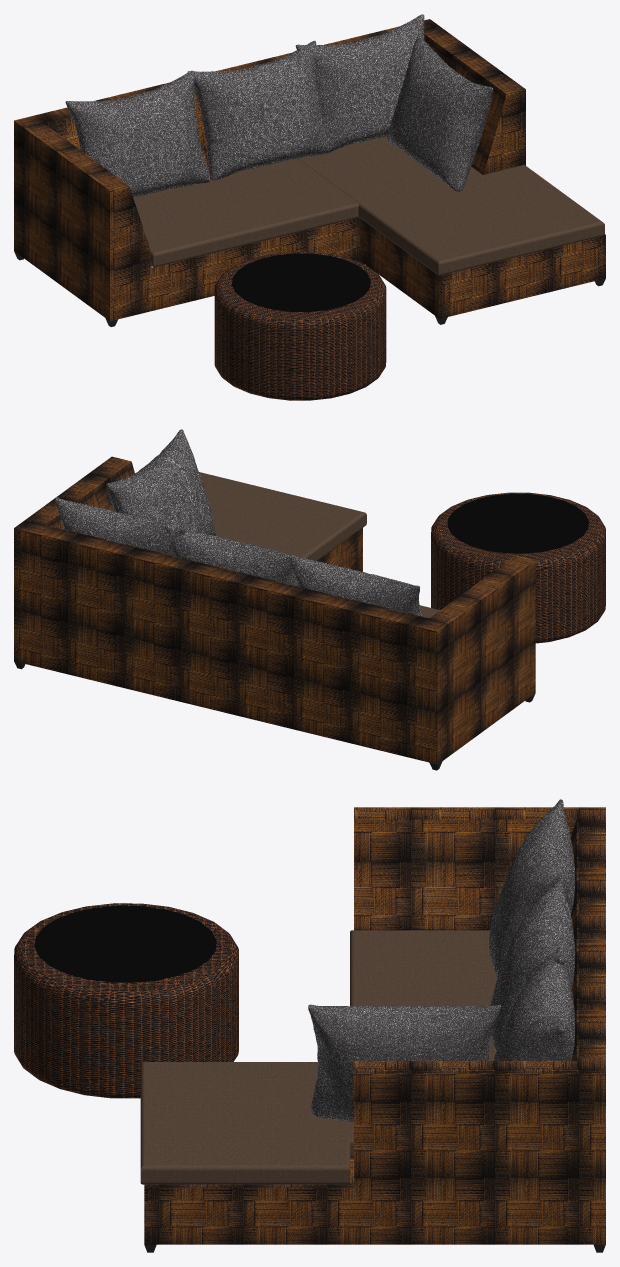
The model's file is furniture 2.dae.
3 renders of one model, top to bottom at view 1: azimuth 30°, elevation 25°; view 2: azimuth 150°, elevation 25°; view 3: azimuth 270°, elevation 25°, orthographic. The views are drawn at different scales.
Parts seen in each view (by area): view 1: group_0, Component_3 (×4), Component_2, Component_5, Component_1, group_2; view 2: group_0, Component_3 (×4), Component_5, Component_2, group_2; view 3: group_0, Component_3 (×4), Component_5, Component_2, group_2, Component_1.
Part boxes in pixels (left/top/right/bottom): group_0: left=14, top=19, right=605, bottom=321; Component_3 (×4): left=65, top=14, right=493, bottom=197; Component_2: left=297, top=136, right=604, bottom=275; Component_5: left=214, top=252, right=386, bottom=400; Component_1: left=133, top=158, right=358, bottom=267; group_2: left=232, top=253, right=370, bottom=312; group_0: left=14, top=456, right=535, bottom=764; Component_3 (×4): left=54, top=429, right=421, bottom=616; Component_5: left=431, top=492, right=605, bottom=643; Component_2: left=199, top=472, right=366, bottom=560; group_2: left=447, top=493, right=588, bottom=553; group_0: left=144, top=807, right=605, bottom=1244; Component_3 (×4): left=308, top=799, right=574, bottom=1121; Component_5: left=14, top=903, right=238, bottom=1098; Component_2: left=140, top=1062, right=353, bottom=1184; group_2: left=34, top=905, right=216, bottom=982; Component_1: left=350, top=930, right=497, bottom=1060.
Size of the model in its own units: 59.06 by 55.52 by 22.34.
Materials: 8 (4 with a texture image).
